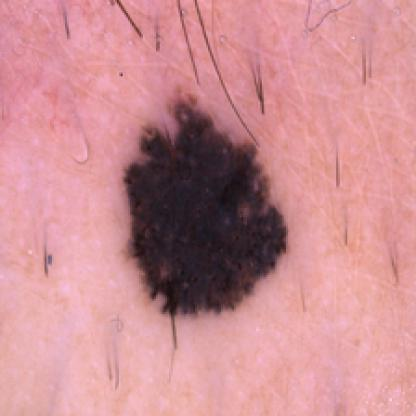benign: (113, 82, 308, 321)
